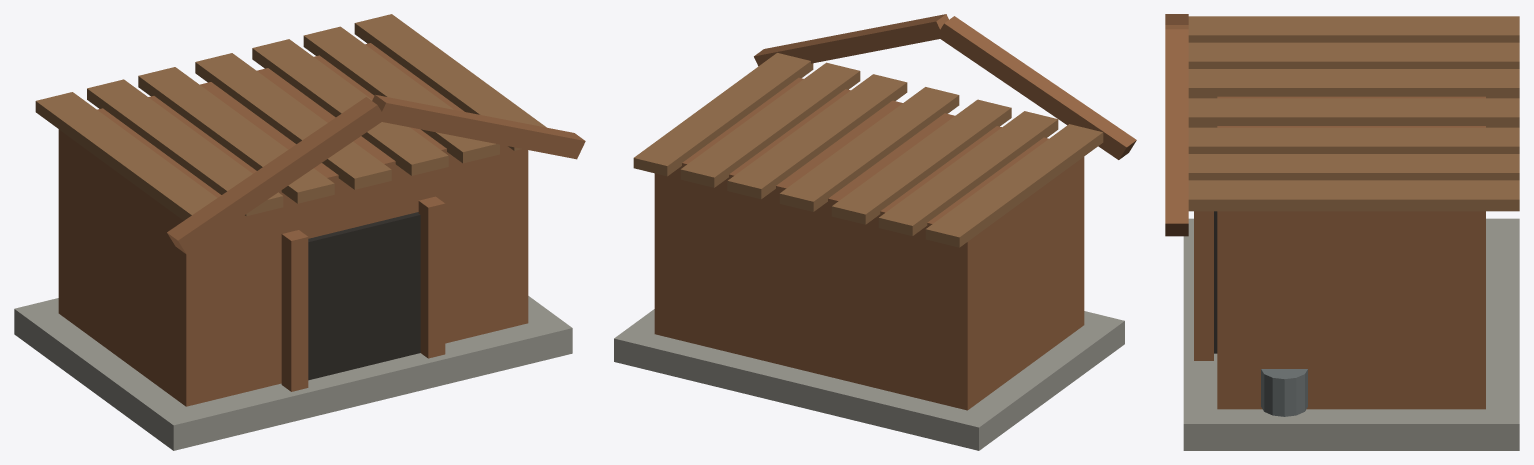
File: board_barracao.glb
3 views of the same model, side by side, from view 1: azimuth 30°, elevation 25°; view 2: azimuth 150°, elevation 25°; view 3: azimuth 270°, elevation 25° (orthographic). The views are drawn at different scales.
Visible parts, largest first — view 1: board_barracao; view 2: board_barracao; view 3: board_barracao.
Boxes of the visible parts, <box> form: board_barracao: <box>14,14,585,450</box>; board_barracao: <box>614,14,1136,450</box>; board_barracao: <box>1165,14,1519,450</box>.
Bounding box in the file's own units: 7 × 5 × 5.
